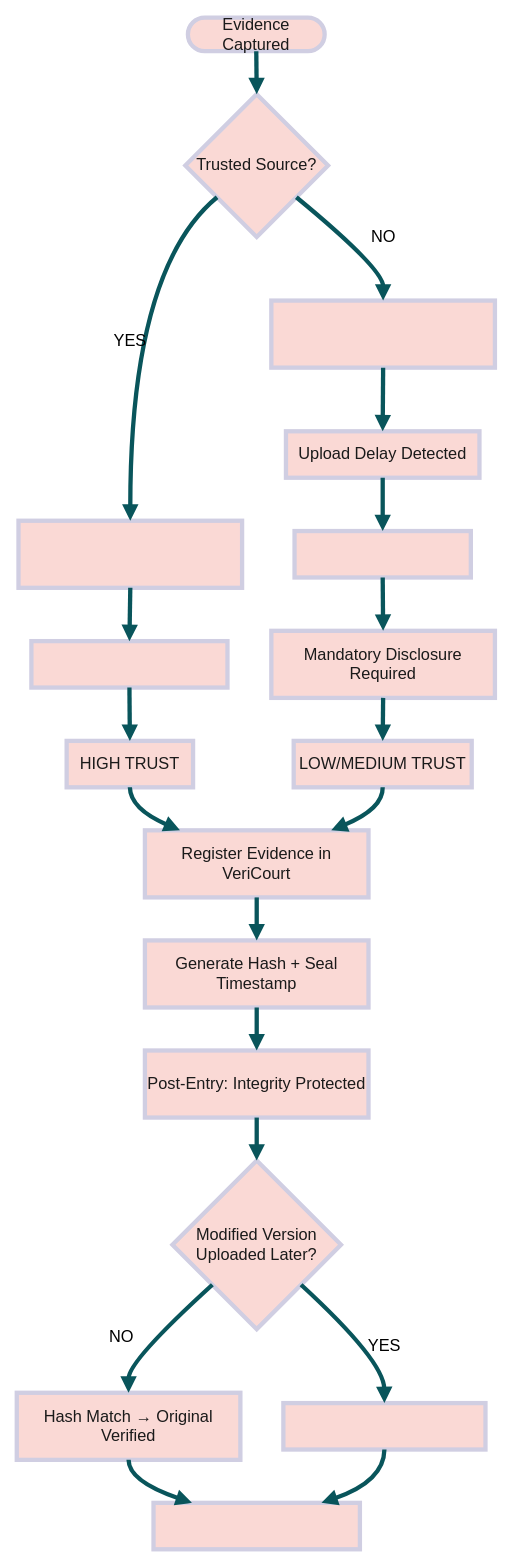
The diagram is 512 pixels wide and 1566 high, and some of its shapes have lost their labels. Here are the shapes that lost their labels. From the top down, the centre of each, then its label:
pixel 383 333: Mobile/Dashcam/Public Video
pixel 130 554: Police Bodycam/Official CCTV
pixel 382 553: Calculate Risk Score
pixel 129 664: Auto Hash + Timestamp
pixel 384 1426: Hash Mismatch → ALERT
pixel 256 1525: Evidence Report to Court
